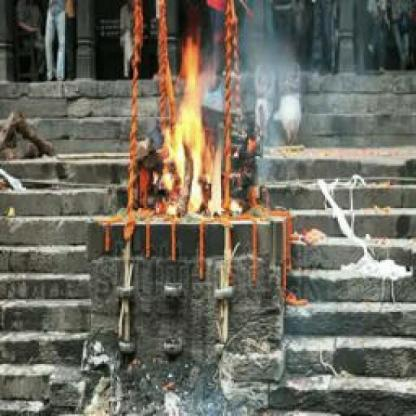fire: (159, 39, 230, 211)
